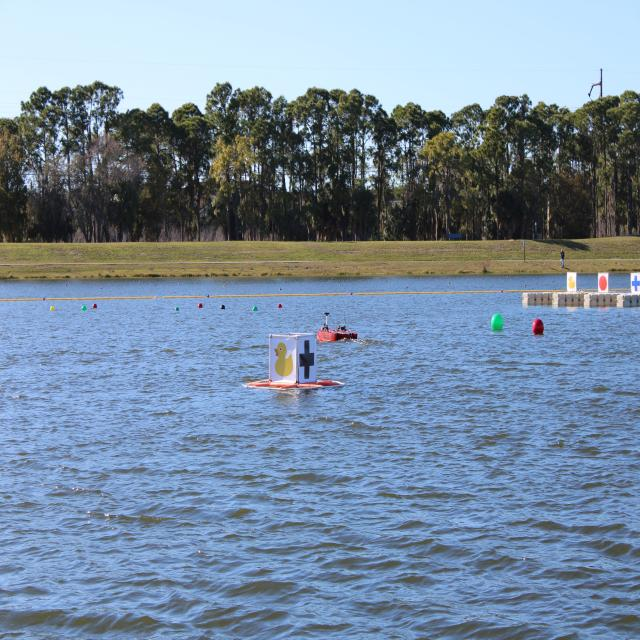blue-cross: (628, 269, 640, 296)
green-buoy: (491, 312, 504, 332), (82, 306, 86, 313)
red-buoy: (535, 320, 547, 338)
red-dot: (596, 272, 610, 295)
yellow-buoy: (50, 306, 54, 312)
yellow-duck: (268, 332, 298, 385), (565, 268, 578, 296)
